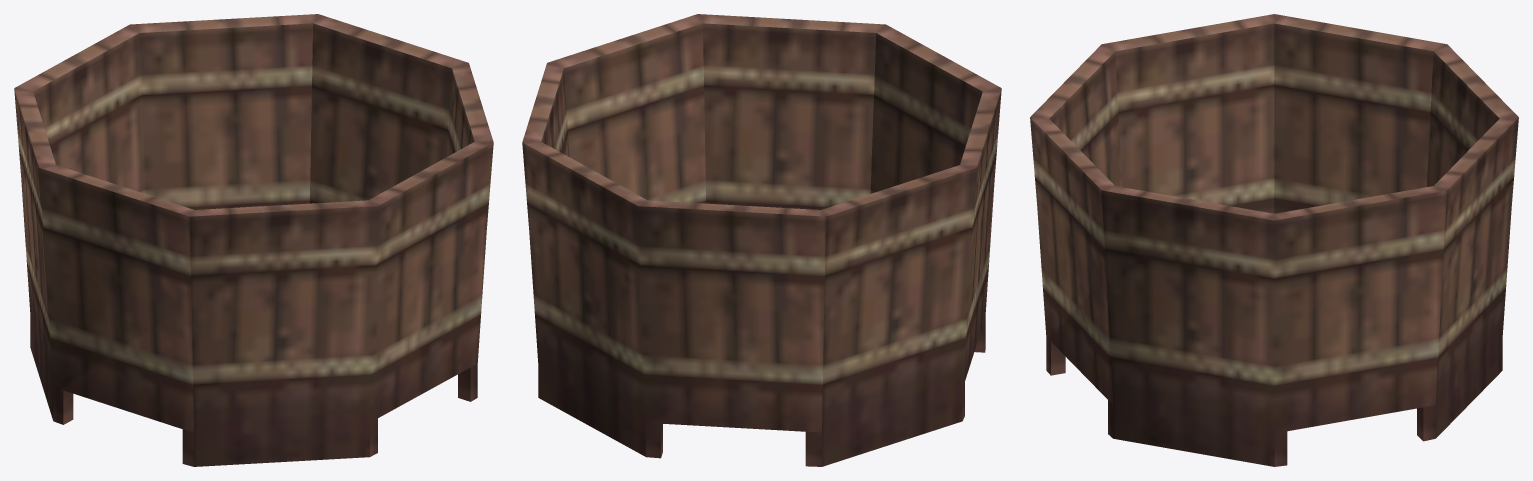
The model's file is ob-b1-006-woodbarrel.fbx.
3 views of the same model, side by side, from view 1: azimuth 30°, elevation 25°; view 2: azimuth 150°, elevation 25°; view 3: azimuth 270°, elevation 25° (orthographic).
Parts seen in each view (by area): view 1: waterbarrel; view 2: waterbarrel; view 3: waterbarrel.
Part boxes in pixels (x1=…): waterbarrel: x1=14, y1=14, x2=493, y2=466; waterbarrel: x1=522, y1=14, x2=1001, y2=466; waterbarrel: x1=1030, y1=14, x2=1518, y2=466.
Bounding box in the file's own units: 1.05 × 0.5975 × 1.05.
